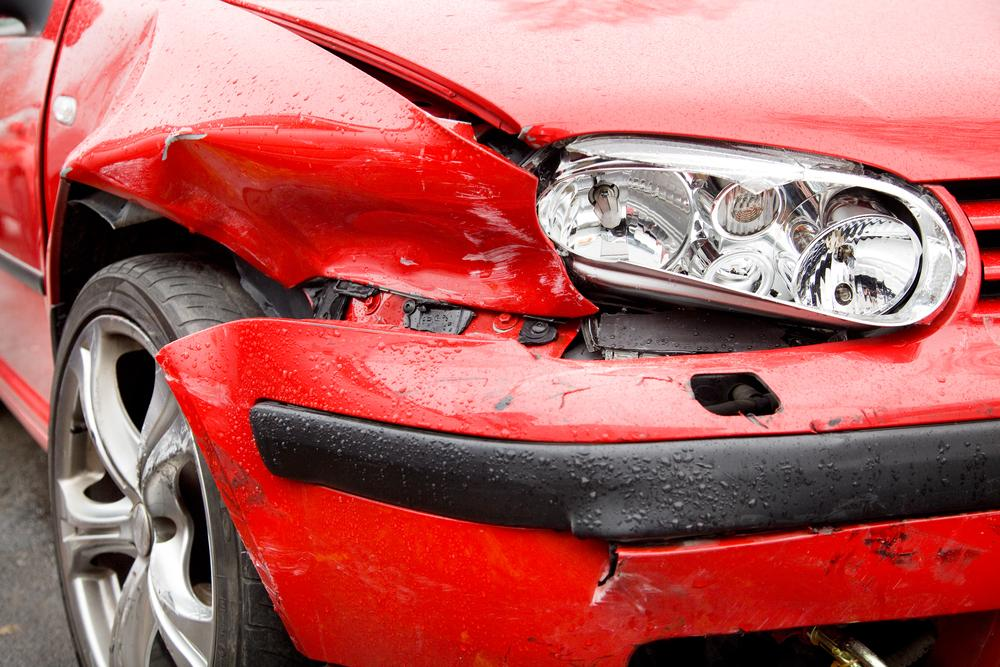crack: (592, 543, 620, 602)
dent: (60, 117, 596, 317)
lamp broken: (527, 132, 962, 334)
scratch: (202, 431, 291, 613), (832, 524, 1000, 566)
